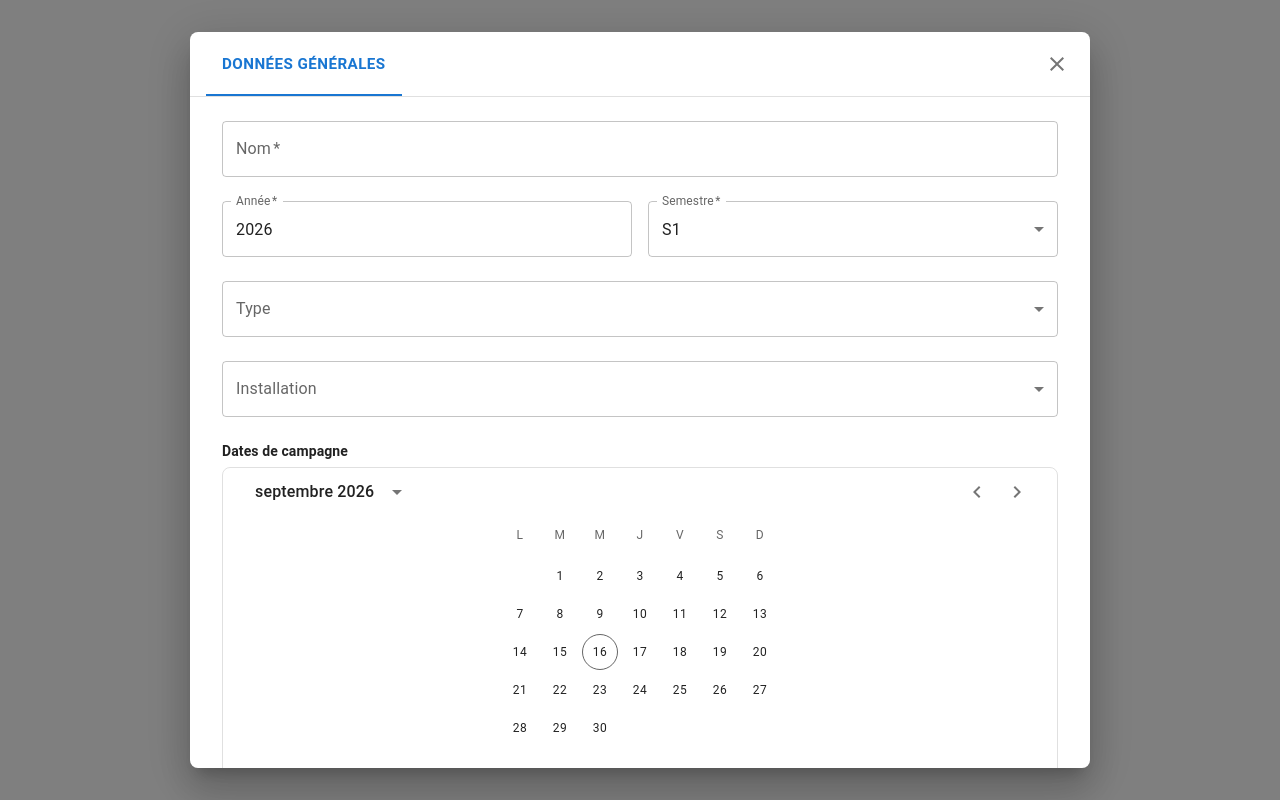
Test: CreateCampaignModal › Type Selection › should display all campaign types in dropdown
Note: Open the Type dropdown
Click the dropdown next to "Type".
click(640, 309)  # box [222,281,1058,337]
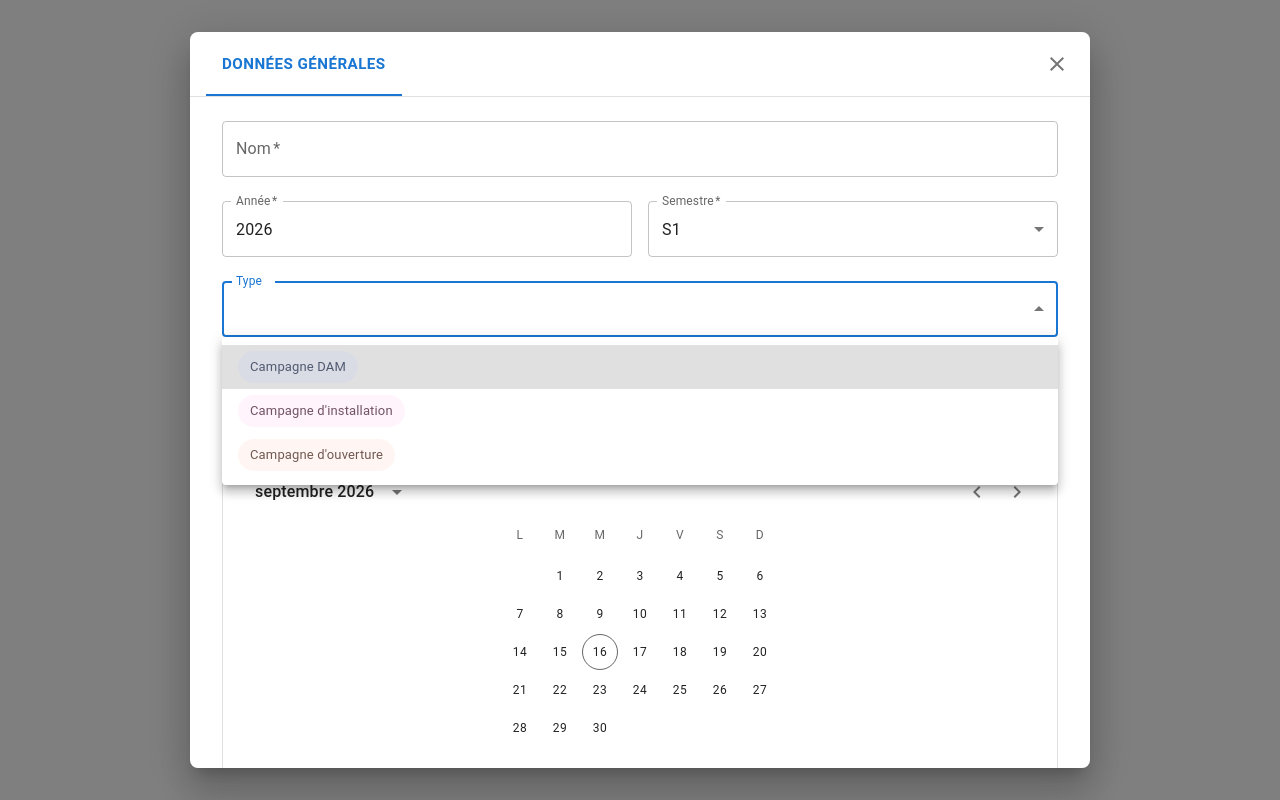
Now the text "Campagne DAM" is shown, box [250,359,346,374]
Now the text "Campagne d'installation" is shown, box [238,401,405,421]
Now the text "Campagne d'ouverture" is shown, box [250,447,383,462]
